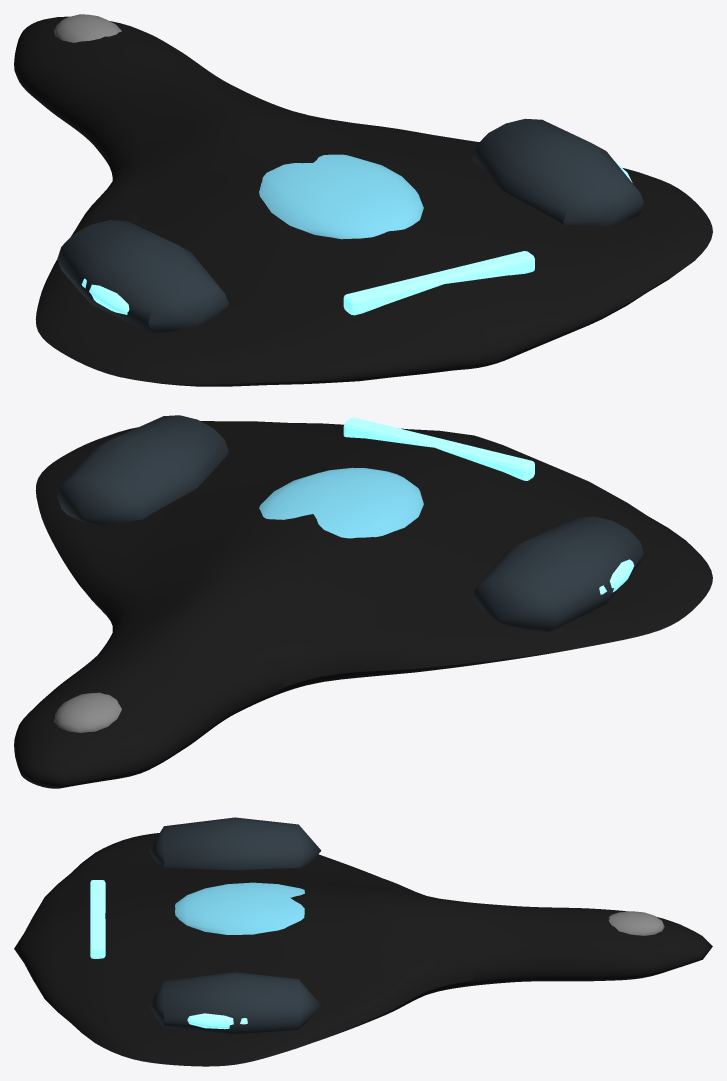
File: storm.glb
3 views of the same model, one above another, from view 1: azimuth 30°, elevation 25°; view 2: azimuth 150°, elevation 25°; view 3: azimuth 270°, elevation 25° (orthographic). The views are drawn at different scales.
Visible parts, largest first — view 1: hull, pod, pod.001, canopy, light_bar, nose_light, pod_light; view 2: hull, pod, pod.001, canopy, light_bar, nose_light; view 3: hull, pod.001, pod, canopy, light_bar, nose_light, pod_light.001.
Part boxes in pixels (x1=…): hull: x1=14, y1=16, x2=712, y2=386; pod: x1=57, y1=220, x2=228, y2=333; pod.001: x1=472, y1=118, x2=643, y2=226; canopy: x1=259, y1=154, x2=423, y2=239; light_bar: x1=343, y1=251, x2=534, y2=315; nose_light: x1=54, y1=14, x2=121, y2=42; pod_light: x1=81, y1=278, x2=129, y2=314; hull: x1=14, y1=421, x2=712, y2=788; pod: x1=472, y1=516, x2=643, y2=631; pod.001: x1=57, y1=415, x2=228, y2=524; canopy: x1=259, y1=467, x2=423, y2=538; light_bar: x1=343, y1=417, x2=534, y2=480; nose_light: x1=54, y1=692, x2=121, y2=732; hull: x1=14, y1=833, x2=712, y2=1066; pod.001: x1=149, y1=972, x2=321, y2=1034; pod: x1=149, y1=817, x2=321, y2=870; canopy: x1=175, y1=882, x2=304, y2=934; light_bar: x1=90, y1=880, x2=105, y2=958; nose_light: x1=608, y1=911, x2=664, y2=935; pod_light.001: x1=187, y1=1013, x2=247, y2=1029.
Bounding box in the file's own units: 21.93 × 3.11 × 27.5.
